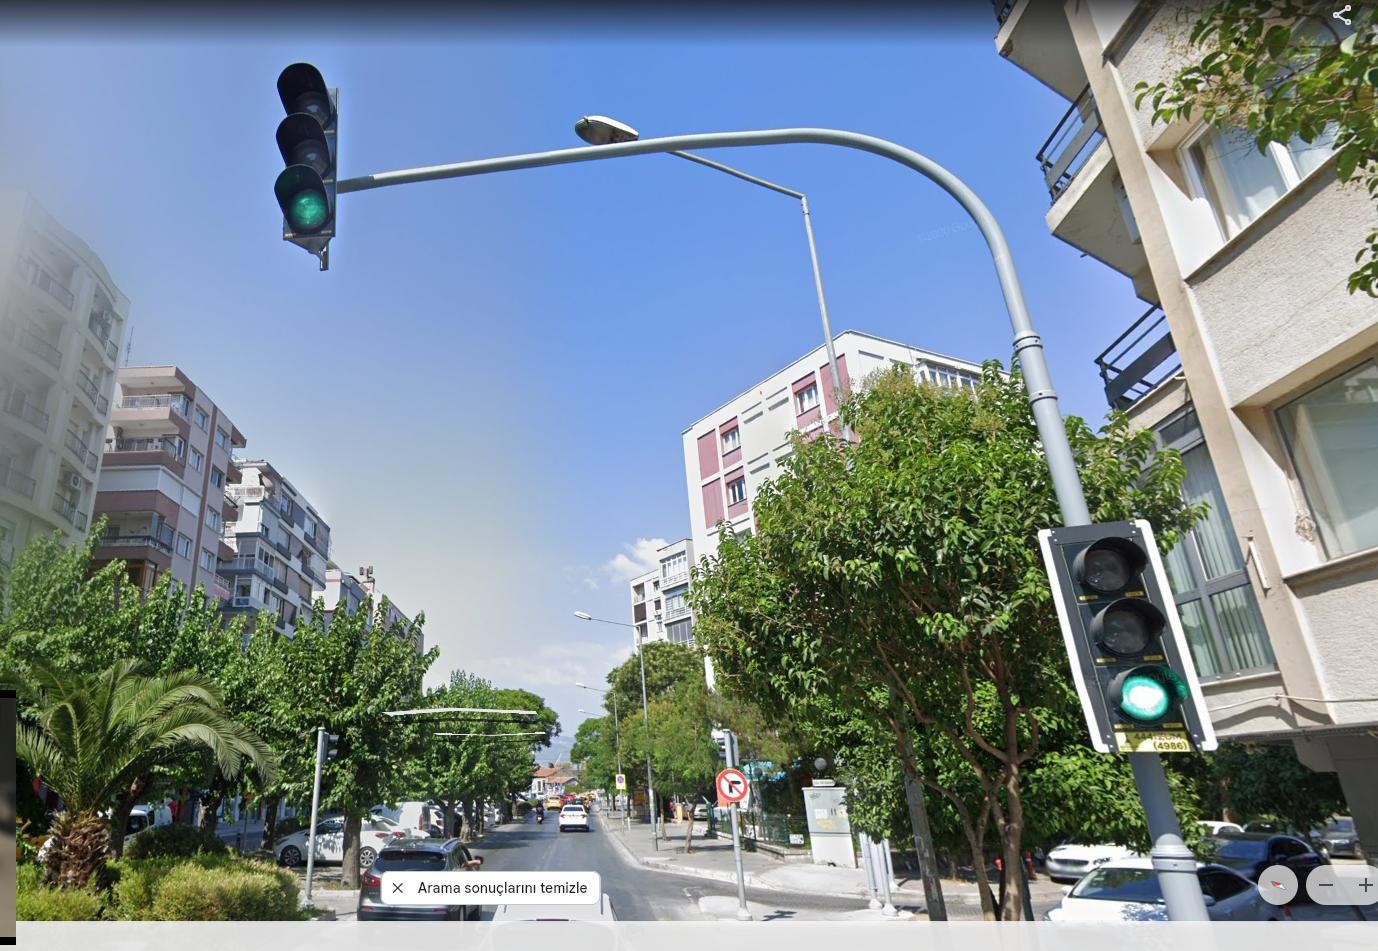greenlight: (1069, 515, 1192, 745), (282, 62, 346, 241)
